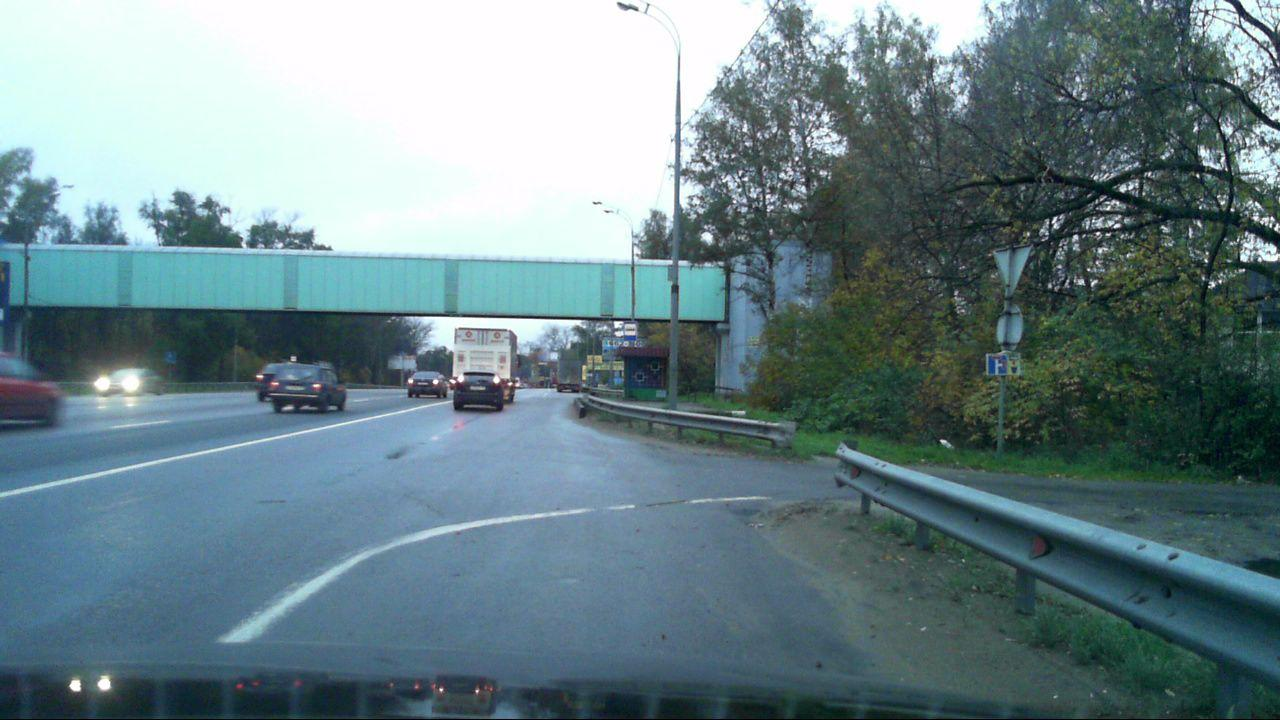5_16: (623, 321, 638, 342)
6_8_2: (988, 354, 1011, 376)
